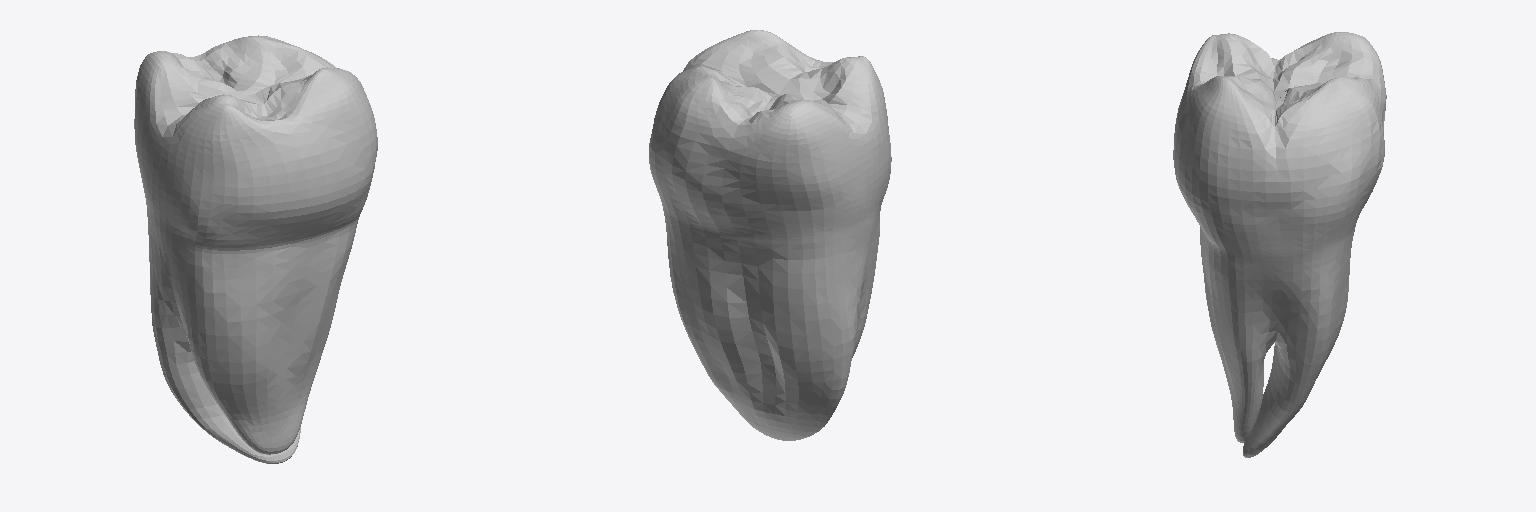
3 renders of one model, left to right at view 1: azimuth 30°, elevation 25°; view 2: azimuth 150°, elevation 25°; view 3: azimuth 270°, elevation 25°, orthographic.
Parts seen in each view (by area): view 1: polySurface17 group4 dfhjghkljk; view 2: polySurface17 group4 dfhjghkljk; view 3: polySurface17 group4 dfhjghkljk.
Boxes of the visible parts, x1,y1,x2,y2 form: polySurface17 group4 dfhjghkljk: [134, 35, 377, 463]; polySurface17 group4 dfhjghkljk: [649, 30, 891, 440]; polySurface17 group4 dfhjghkljk: [1173, 32, 1386, 457].
Size of the model in its own units: 2.73 by 5.07 by 2.49.